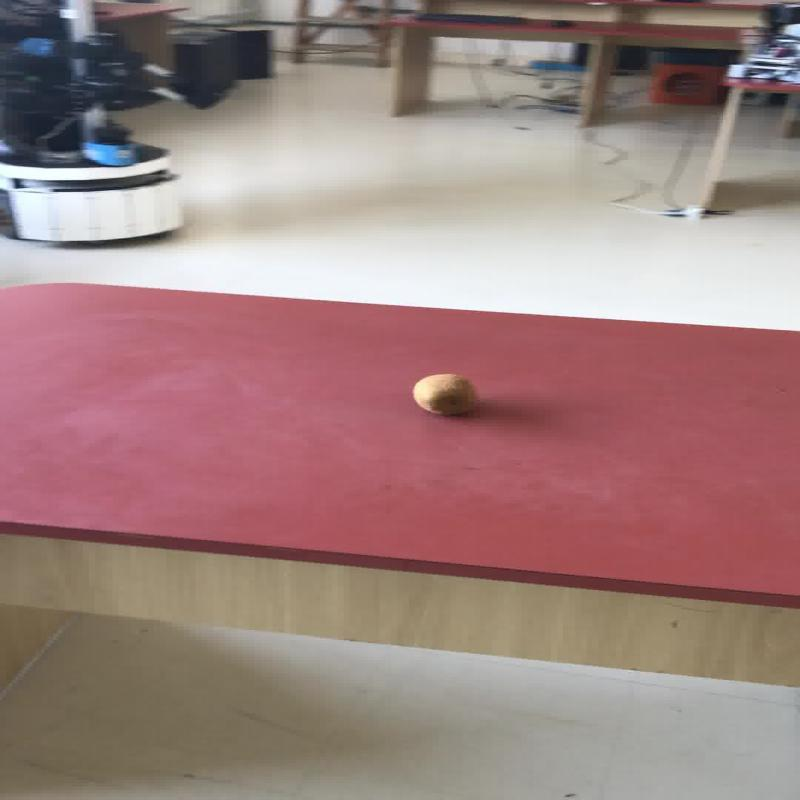kiwi: (410, 372, 474, 416)
